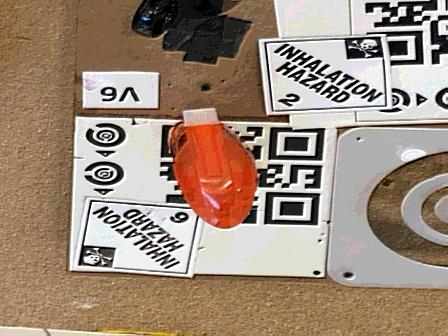poison: (257, 36, 392, 114), (74, 197, 199, 274)
